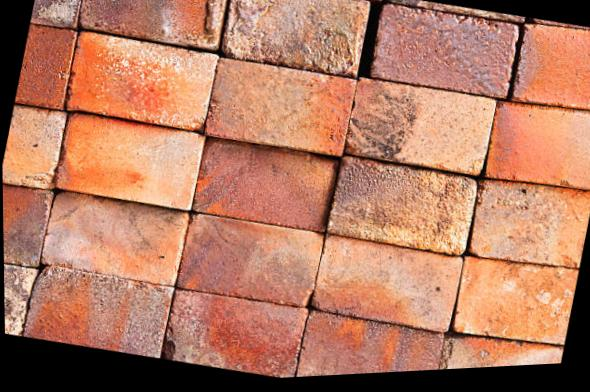brick: (62, 21, 220, 138), (325, 148, 481, 265), (308, 226, 467, 340), (53, 103, 208, 218), (37, 182, 192, 296), (343, 68, 497, 182), (174, 203, 326, 317), (203, 53, 357, 164), (191, 128, 340, 242), (21, 257, 175, 366), (367, 0, 521, 108), (160, 280, 308, 384), (450, 246, 580, 355), (468, 167, 590, 279), (219, 0, 370, 85), (484, 93, 590, 199), (294, 304, 443, 377), (78, 0, 231, 57), (509, 16, 590, 120), (13, 19, 80, 112), (433, 323, 564, 370), (2, 101, 66, 193), (3, 178, 57, 272), (4, 256, 38, 338), (30, 0, 90, 30)
